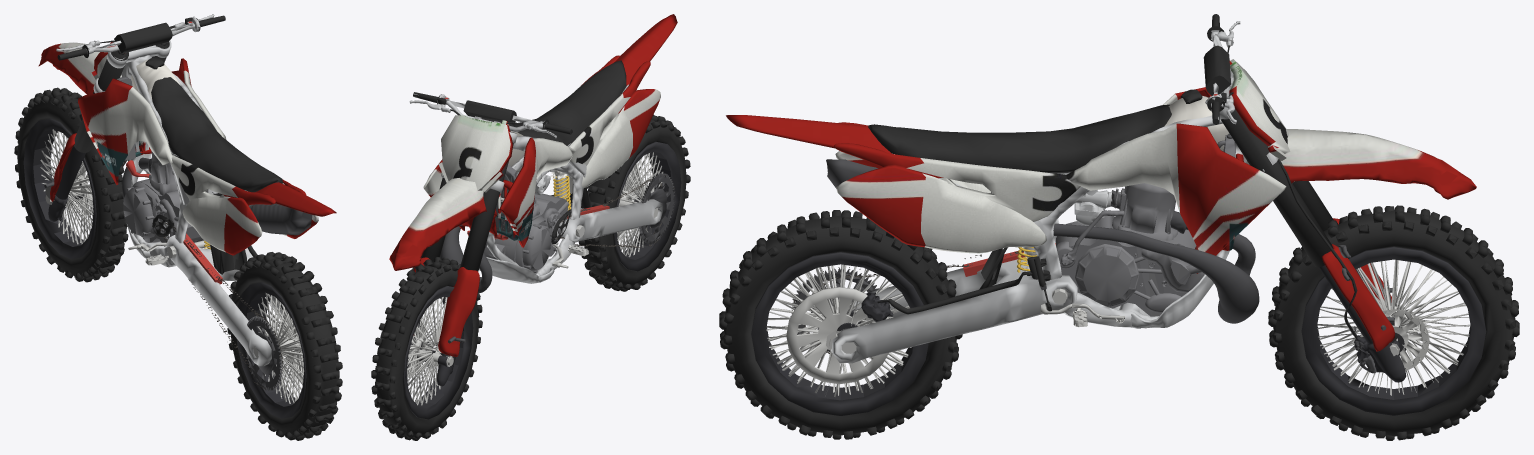
File: fp_bike_mx2.glb
3 renders of one model, left to right at view 1: azimuth 30°, elevation 25°; view 2: azimuth 150°, elevation 25°; view 3: azimuth 270°, elevation 25°, orthographic. The views are drawn at different scales.
Parts seen in each view (by area): view 1: Bike, TireRear, TireFront, HandleBars, SwingArm, Shocks; view 2: Bike, TireFront, HandleBars, TireRear, SwingArm, Shocks; view 3: Bike, TireRear, TireFront, HandleBars, SwingArm, Shocks.
Boxes of the visible parts, <box> form: Bike: <box>78,55,336,357</box>; TireRear: <box>206,252,342,440</box>; TireFront: <box>14,87,128,282</box>; HandleBars: <box>38,14,225,166</box>; SwingArm: <box>160,221,299,401</box>; Shocks: <box>45,133,93,221</box>; Bike: <box>423,14,677,292</box>; TireFront: <box>371,257,482,440</box>; HandleBars: <box>389,92,572,335</box>; TireRear: <box>578,114,690,291</box>; SwingArm: <box>551,176,665,249</box>; Shocks: <box>407,257,479,386</box>; Bike: <box>726,87,1286,353</box>; TireRear: <box>719,210,981,439</box>; TireFront: <box>1268,205,1519,440</box>; HandleBars: <box>1203,14,1476,338</box>; SwingArm: <box>804,243,1077,396</box>; Shocks: <box>1319,218,1429,382</box>.
Bounding box in the file's own units: 2.24 × 3.82 × 7.31.
49 materials, 2 textured.
